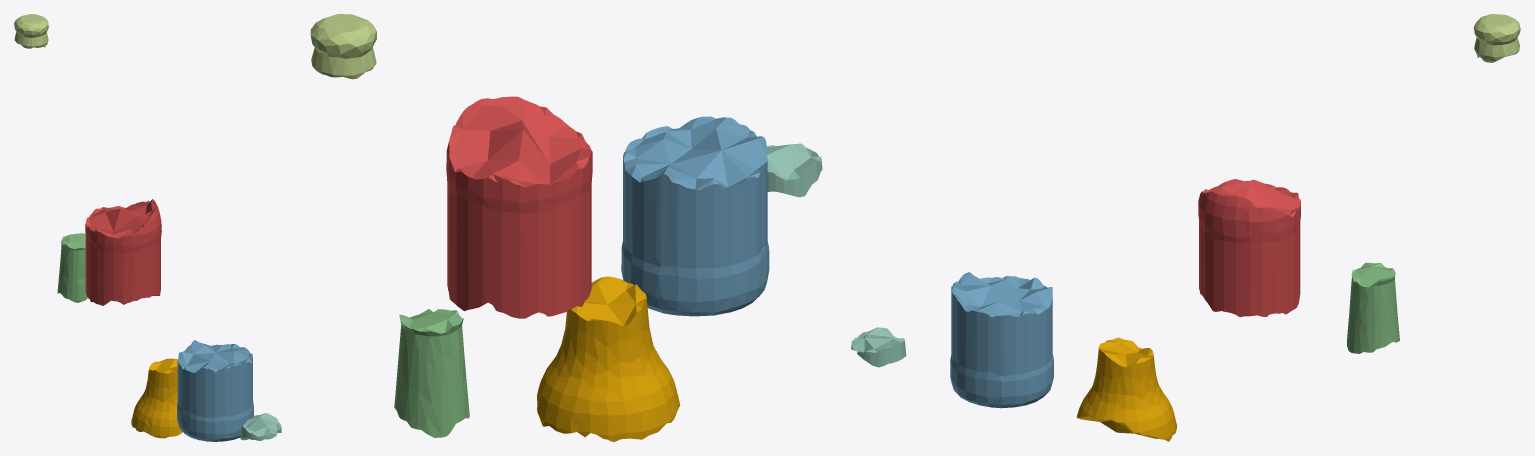
File: fractured_14_6pcs_transformed.glb
The picture shows the model from 3 angles, left to right: view 1: azimuth 30°, elevation 25°; view 2: azimuth 150°, elevation 25°; view 3: azimuth 270°, elevation 25°; orthographic projection. The views are drawn at different scales.
Parts seen in each view (by area): view 1: piece_1.obj, piece_2.obj, piece_0.obj, piece_3.obj, piece_5.obj, piece_4.obj; view 2: piece_1.obj, piece_2.obj, piece_0.obj, piece_3.obj, piece_5.obj, piece_4.obj; view 3: piece_1.obj, piece_2.obj, piece_0.obj, piece_3.obj, piece_5.obj, piece_4.obj.
Part boxes in pixels (left/top/right/bottom): piece_1.obj: left=85, top=199, right=161, bottom=305; piece_2.obj: left=177, top=340, right=253, bottom=441; piece_0.obj: left=131, top=358, right=182, bottom=438; piece_3.obj: left=57, top=233, right=88, bottom=302; piece_5.obj: left=14, top=14, right=48, bottom=48; piece_4.obj: left=240, top=413, right=281, bottom=440; piece_1.obj: left=446, top=96, right=592, bottom=318; piece_2.obj: left=621, top=116, right=769, bottom=316; piece_0.obj: left=537, top=276, right=680, bottom=441; piece_3.obj: left=394, top=309, right=469, bottom=437; piece_5.obj: left=310, top=14, right=376, bottom=79; piece_4.obj: left=766, top=143, right=822, bottom=197; piece_1.obj: left=1198, top=179, right=1300, bottom=317; piece_2.obj: left=950, top=272, right=1053, bottom=408; piece_0.obj: left=1076, top=337, right=1177, bottom=441; piece_3.obj: left=1346, top=262, right=1399, bottom=353; piece_5.obj: left=1473, top=14, right=1520, bottom=62; piece_4.obj: left=851, top=327, right=906, bottom=367.
Size of the model in its own units: 0.2521 by 1.1 by 1.62.
